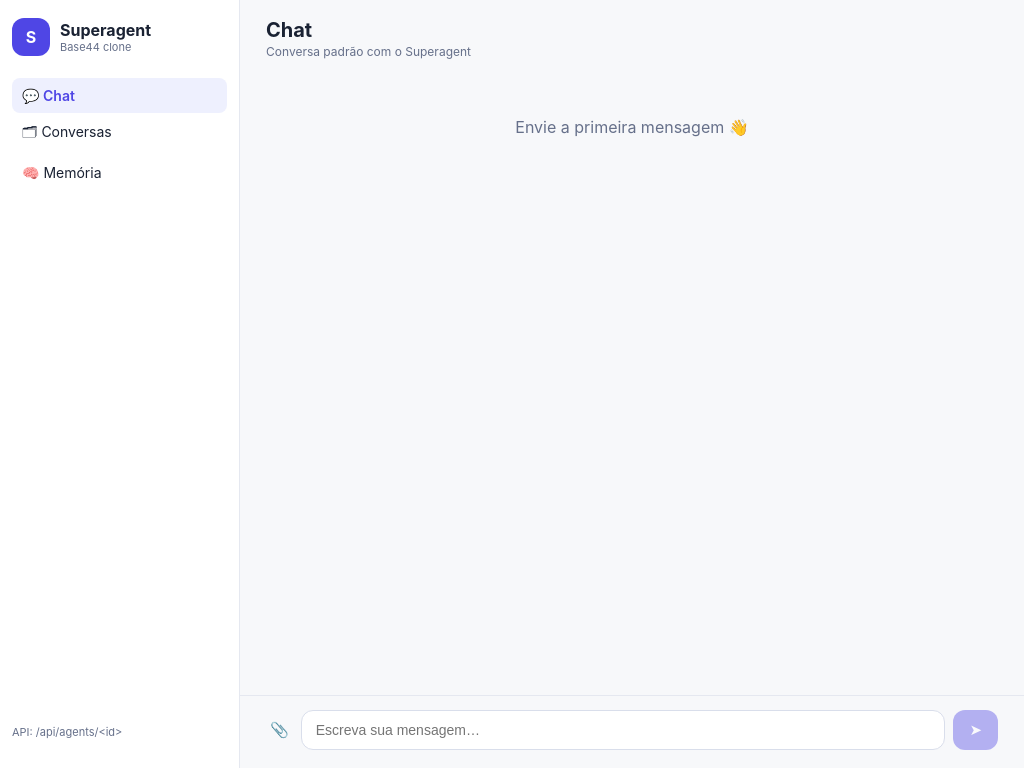
superchat clone › chat: pede config quando envia sem apiKey
Type "oi" into the field labelled "mensagem". click: (623, 730)
box: 301,710 -> 945,750
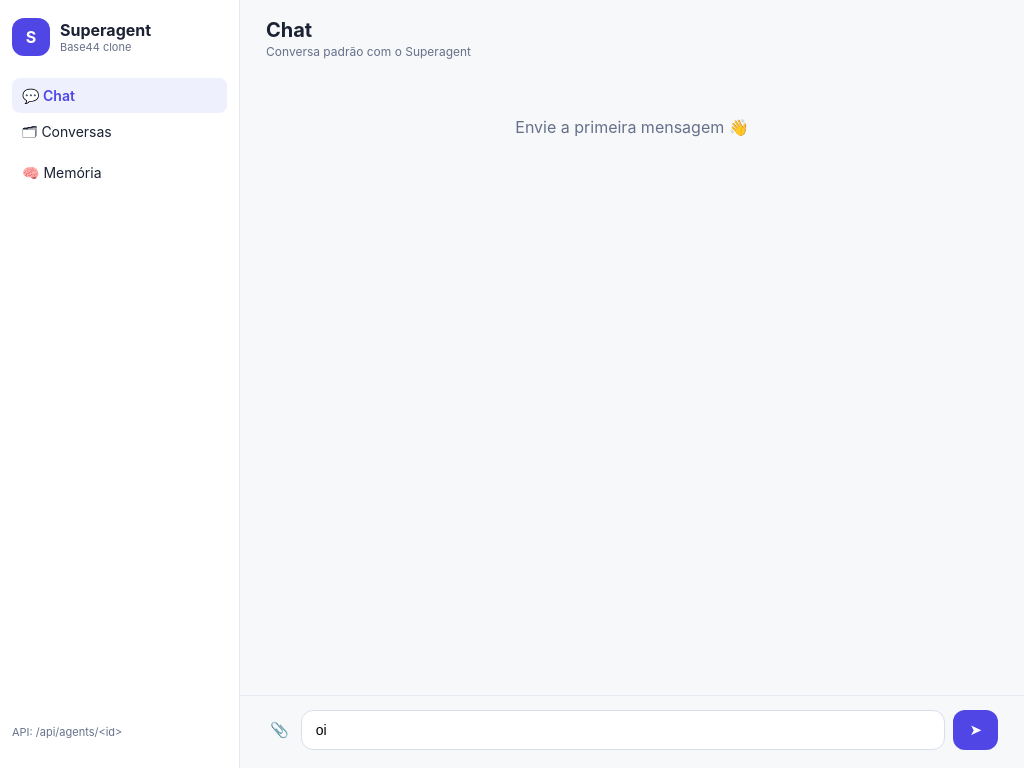
Submit the form named "Mensagem", box 240,695 -> 1023,767
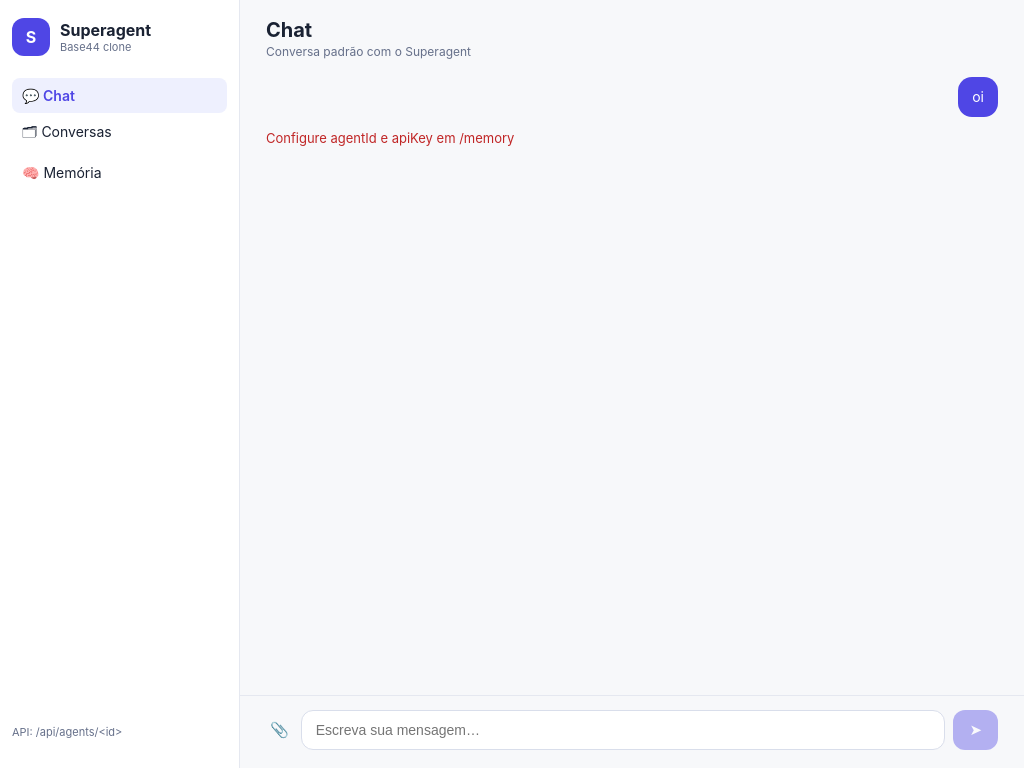
Result: the message shows "Configure" at 266,130 -> 514,146
